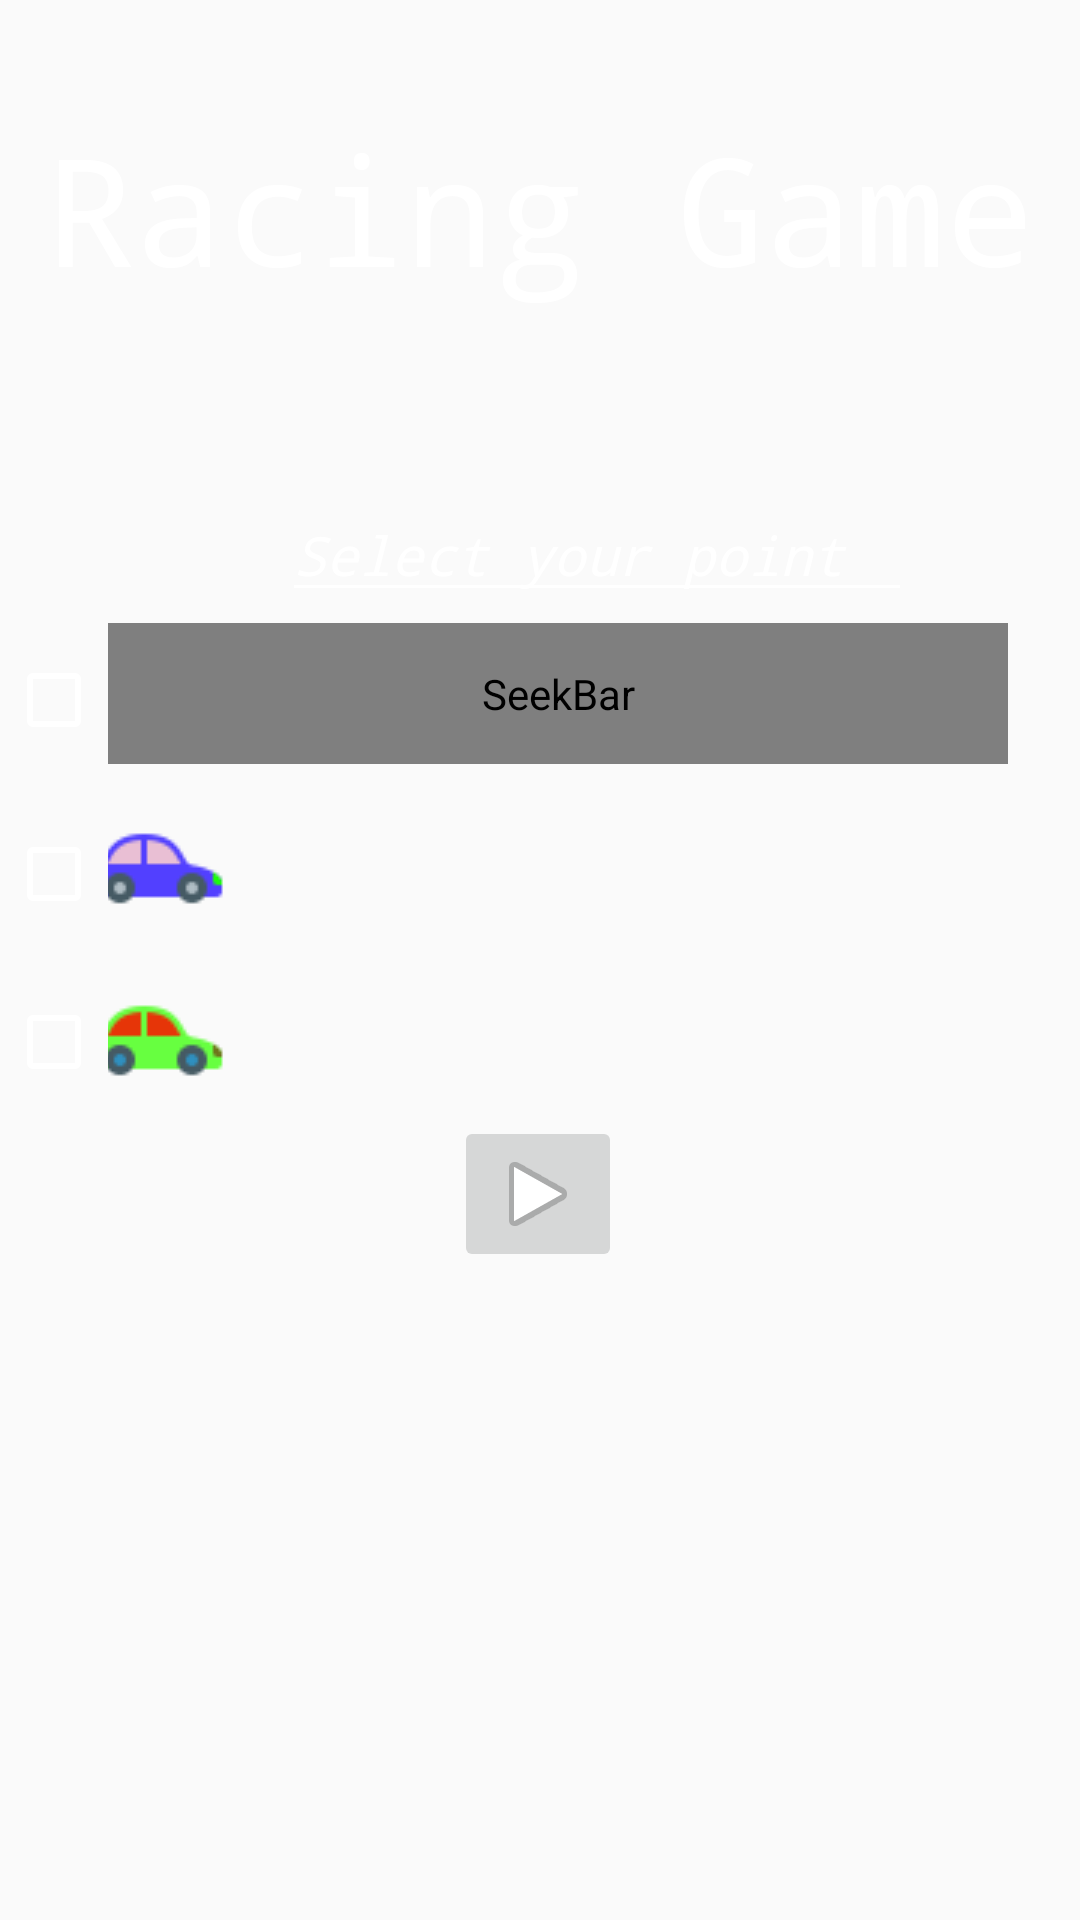

Locate icon controls on the screen. Image size 1080px×1920px, boxes as (x1, y1, x2, y2).
play: (466, 1134, 610, 1254)
